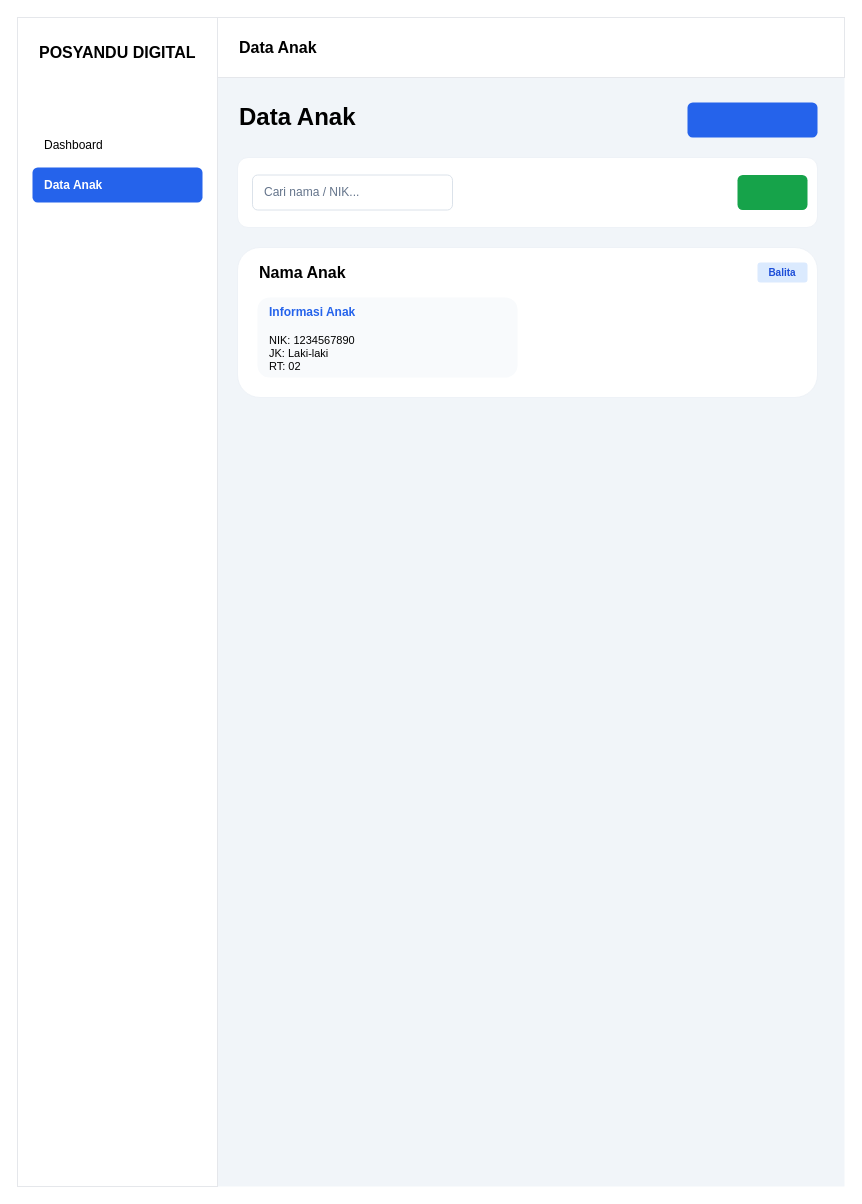
Image size: 862x1204. Some labels were removed from this diagram. The shapes that lost their labels are listed below. From the top down, each one's centre as x and y in pixels, then its label:
At point 752,119: "+ Tambah Anak".
At point 772,192: "Filter".
